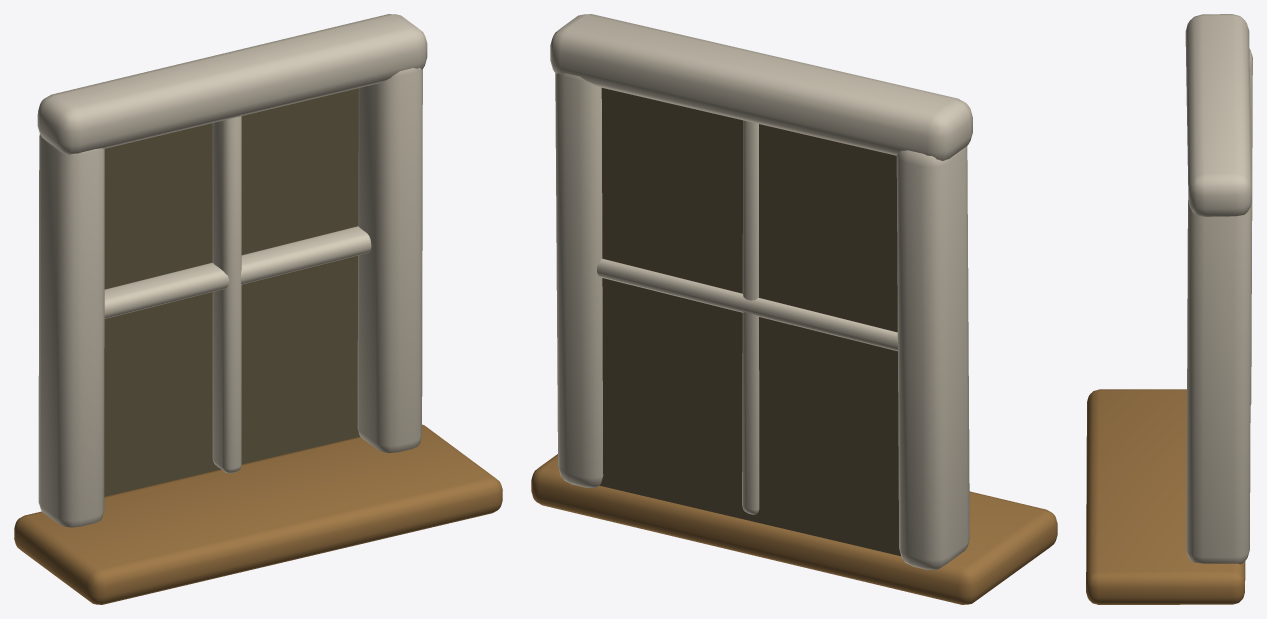
The model's file is tg_window.glb.
The picture shows the model from 3 angles, left to right: view 1: azimuth 30°, elevation 25°; view 2: azimuth 150°, elevation 25°; view 3: azimuth 270°, elevation 25°; orthographic projection. The views are drawn at different scales.
Parts seen in each view (by area): view 1: window_tg, Glow; view 2: window_tg, Glow; view 3: window_tg.
Part boxes in pixels (bbox=[...]): window_tg: bbox=[14, 14, 502, 604]; Glow: bbox=[104, 88, 359, 496]; window_tg: bbox=[531, 14, 1057, 604]; Glow: bbox=[599, 88, 900, 556]; window_tg: bbox=[1086, 14, 1252, 604].
Size of the model in its own units: 1.12 by 1.18 by 0.4197.
